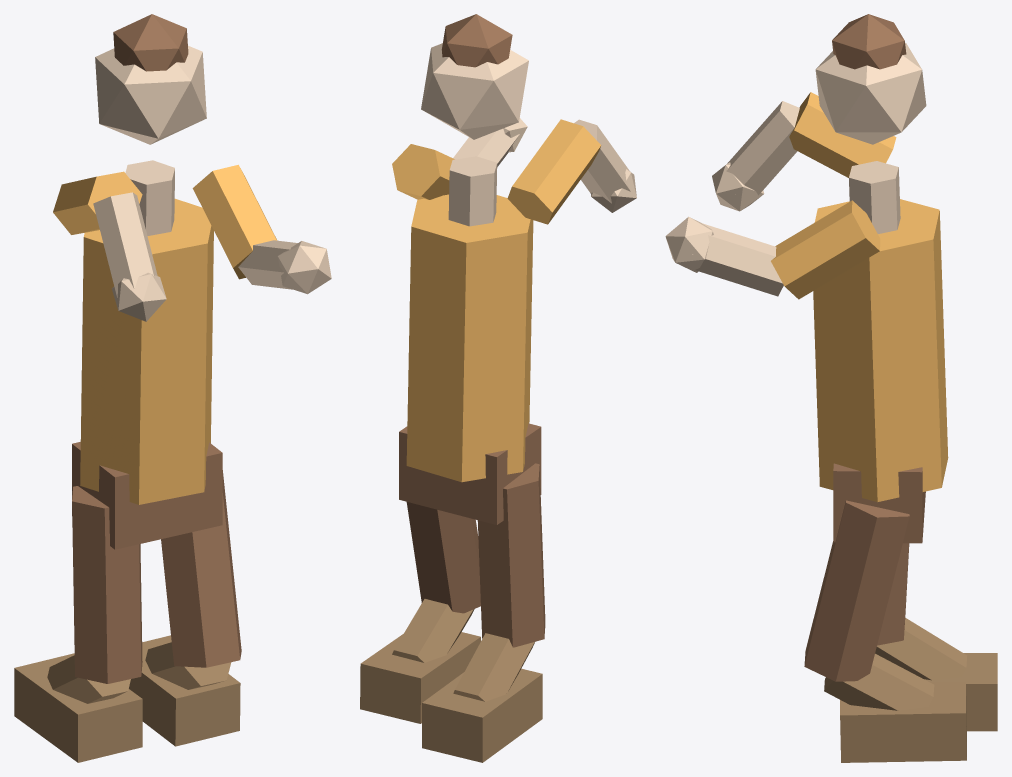
File: pose_attack_1_25.glb
3 renders of one model, left to right at view 1: azimuth 30°, elevation 25°; view 2: azimuth 150°, elevation 25°; view 3: azimuth 270°, elevation 25°, orthographic. The views are drawn at different scales.
Visible parts, largest first — view 1: pose; view 2: pose; view 3: pose.
Boxes of the visible parts, bbox=[...] form: pose: bbox=[14, 14, 331, 762]; pose: bbox=[360, 14, 636, 762]; pose: bbox=[665, 14, 997, 762].
Size of the model in its own units: 0.4198 by 1.52 by 0.6335.
